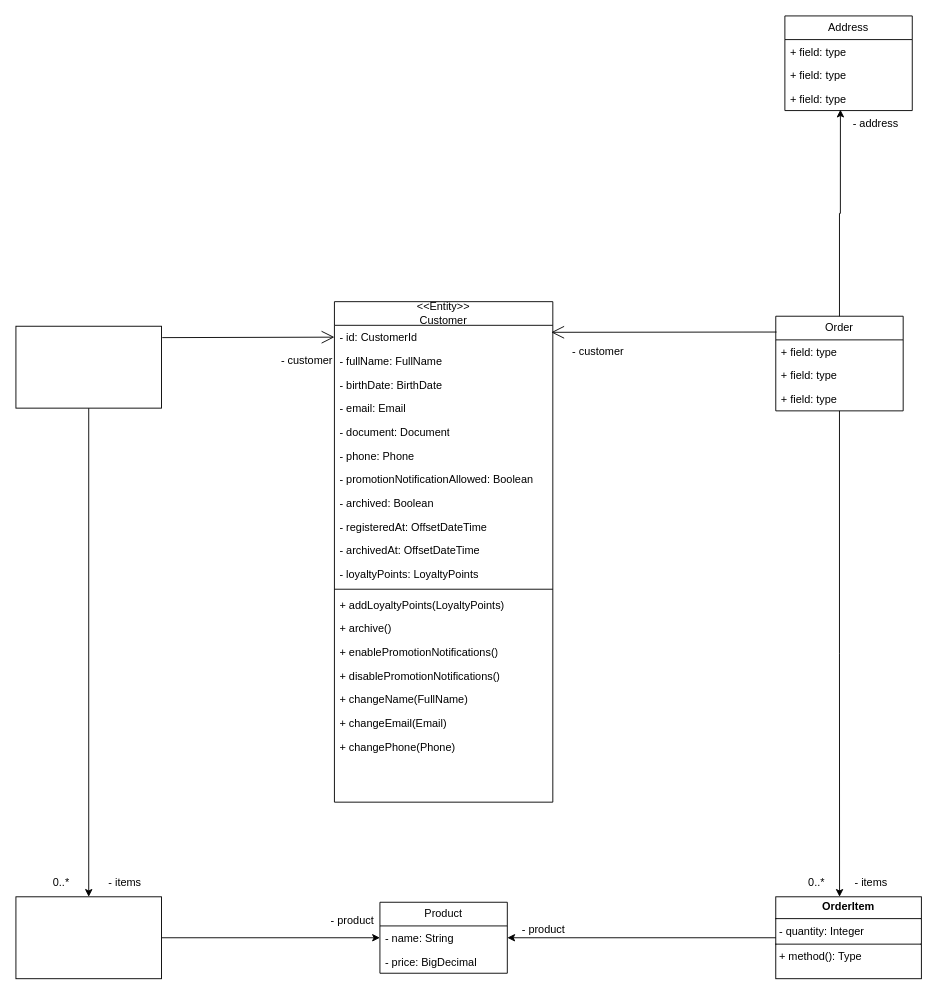
The diagram is 937 pixels wide and 995 high, and some of its shapes have lost their labels. Here are the shapes that lost their labels. From the top down, the centre of each, then its label:
At (x=88, y=366): "ShoppingCart + field: Type + method(): Type".
At (x=88, y=937): "ShoppingCartItem - quantity: Integer".
